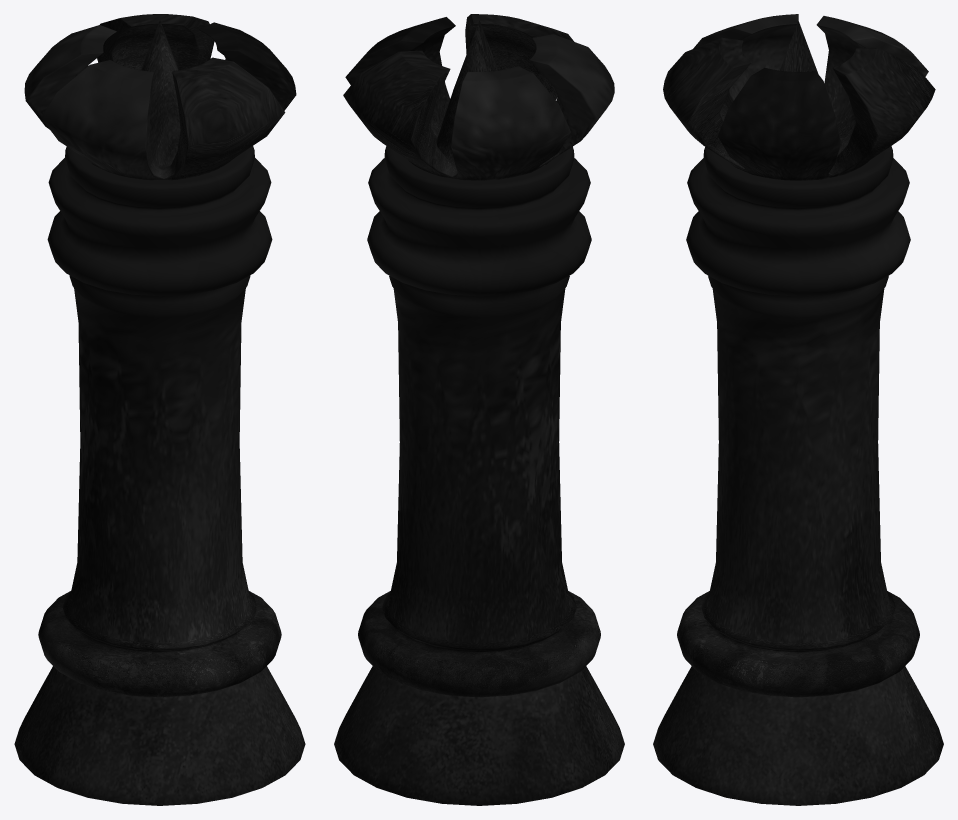
Rendered from king_black.obj.
The picture shows the model from 3 angles, left to right: view 1: azimuth 30°, elevation 25°; view 2: azimuth 150°, elevation 25°; view 3: azimuth 270°, elevation 25°; orthographic projection.
Parts seen in each view (by area): view 1: king_Cylinder.010; view 2: king_Cylinder.010; view 3: king_Cylinder.010.
Part boxes in pixels (box(x1,y1,x2,y2)): king_Cylinder.010: box(14, 14, 305, 805); king_Cylinder.010: box(334, 14, 624, 805); king_Cylinder.010: box(653, 14, 943, 805).
Size of the model in its own units: 0.9172 by 2.52 by 0.9172.
Materials: 1 (1 with a texture image).
